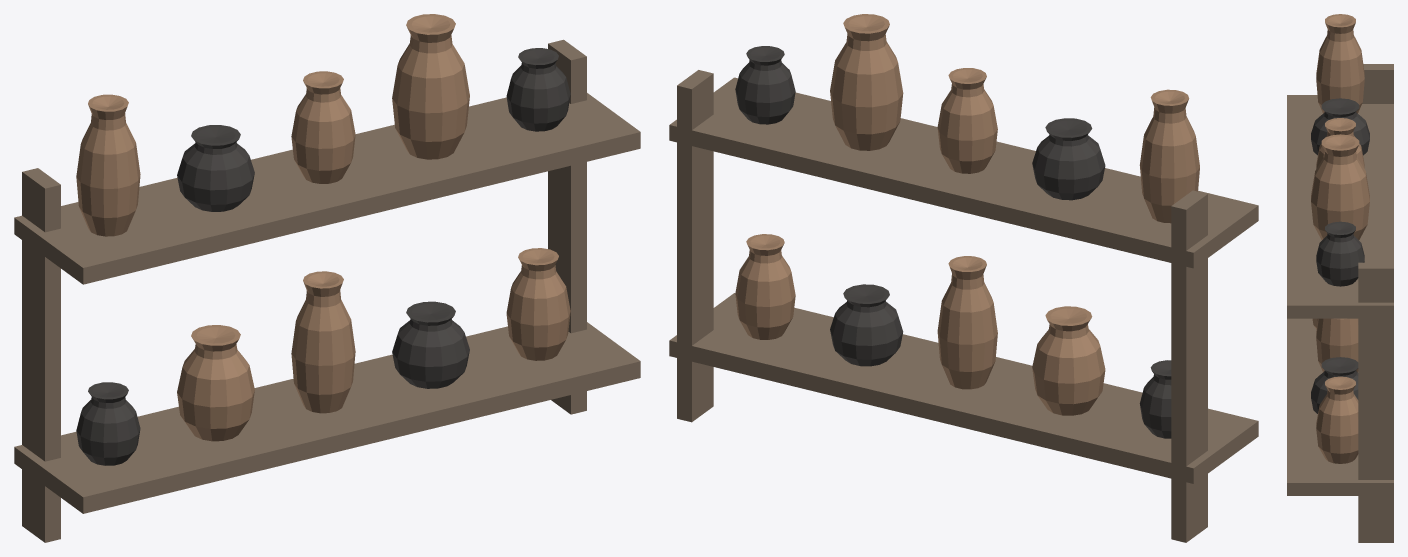
The model's file is PotShelf.fbx.
3 views of the same model, side by side, from view 1: azimuth 30°, elevation 25°; view 2: azimuth 150°, elevation 25°; view 3: azimuth 270°, elevation 25° (orthographic). The views are drawn at different scales.
Parts seen in each view (by area): view 1: PotShelf; view 2: PotShelf; view 3: PotShelf.
Boxes of the visible parts, x1=… form: PotShelf: x1=14, y1=14, x2=640, y2=542; PotShelf: x1=669, y1=14, x2=1258, y2=542; PotShelf: x1=1287, y1=14, x2=1393, y2=542.
Size of the model in its own units: 140 by 104 by 30.
